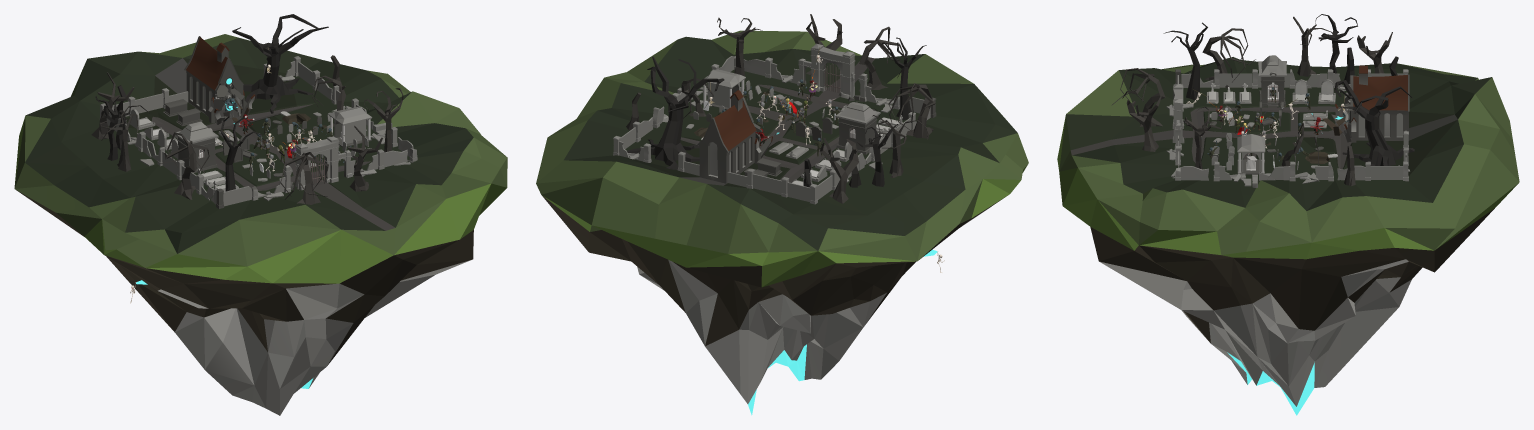
The model's file is Cemetery fantasy battle.fbx.
3 views of the same model, side by side, from view 1: azimuth 30°, elevation 25°; view 2: azimuth 150°, elevation 25°; view 3: azimuth 270°, elevation 25° (orthographic). The views are drawn at different scales.
Visible parts, largest first — view 1: Landscape, Cube_2_21, boki_1, Brama, Cube_36, Grobowiec, drzewo_B, drzewo_B_2, drzewo_G, drzewo_E, drzewo_D, drzewo_H_2 (+2 smaller); view 2: Landscape, boki_1, Cube_2_21, Brama, Cube_36, Grobowiec, drzewo_B_2, drzewo_E_2, drzewo_B, drzewo_G, drzewo_D, drzewo_H (+3 smaller); view 3: Landscape, boki_1, Cube_2_21, Cube_36, Grobowiec, drzewo_B_2, drzewo_B, drzewo_G, drzewo_E, Brama, drzewo_H, drzewo_D (+4 smaller).
Part boxes in pixels (left/top/right/bottom): Landscape: left=14, top=34, right=507, bottom=415; Cube_2_21: left=232, top=14, right=328, bottom=113; boki_1: left=184, top=36, right=241, bottom=116; Brama: left=283, top=136, right=352, bottom=192; Cube_36: left=175, top=121, right=218, bottom=173; Grobowiec: left=328, top=107, right=372, bottom=147; drzewo_B: left=280, top=152, right=328, bottom=204; drzewo_B_2: left=160, top=132, right=209, bottom=199; drzewo_G: left=220, top=116, right=261, bottom=191; drzewo_E: left=347, top=125, right=382, bottom=191; drzewo_D: left=100, top=105, right=149, bottom=171; drzewo_H_2: left=364, top=88, right=403, bottom=152; Landscape: left=536, top=30, right=1028, bottom=415; boki_1: left=697, top=90, right=756, bottom=183; Cube_2_21: left=627, top=56, right=724, bottom=169; Brama: left=797, top=43, right=867, bottom=102; Cube_36: left=835, top=102, right=880, bottom=154; Grobowiec: left=702, top=69, right=745, bottom=109; drzewo_B_2: left=888, top=83, right=935, bottom=138; drzewo_E_2: left=819, top=137, right=858, bottom=203; drzewo_B: left=858, top=26, right=907, bottom=91; drzewo_G: left=881, top=37, right=926, bottom=120; drzewo_D: left=872, top=115, right=927, bottom=177; drzewo_H: left=857, top=124, right=898, bottom=186; Landscape: left=1057, top=57, right=1519, bottom=415; boki_1: left=1352, top=65, right=1409, bottom=140; Cube_2_21: left=1334, top=80, right=1414, bottom=165; Cube_36: left=1258, top=55, right=1286, bottom=107; Grobowiec: left=1237, top=134, right=1265, bottom=174; drzewo_B_2: left=1202, top=28, right=1255, bottom=88; drzewo_B: left=1111, top=68, right=1165, bottom=126; drzewo_G: left=1163, top=22, right=1207, bottom=100; drzewo_E: left=1126, top=92, right=1162, bottom=151; Brama: left=1172, top=84, right=1185, bottom=150; drzewo_H: left=1315, top=14, right=1357, bottom=73; drzewo_D: left=1293, top=16, right=1332, bottom=76.
Size of the model in its own units: 3604 by 3090 by 3720.
